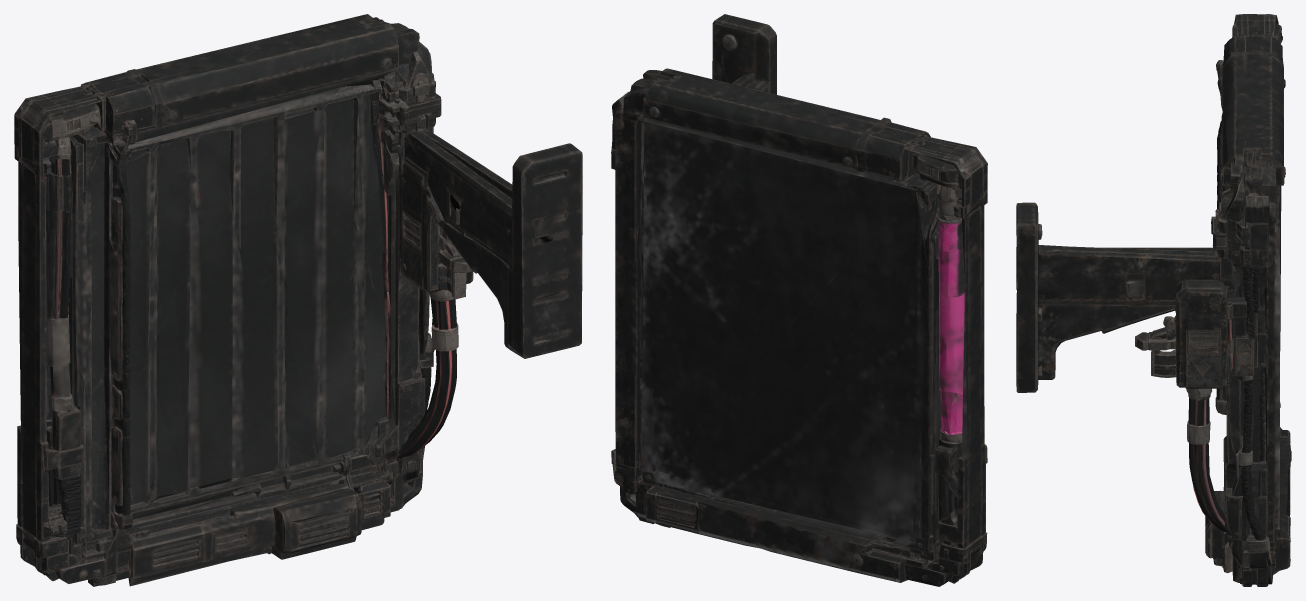
The model's file is neon_sign.glb.
The picture shows the model from 3 angles, left to right: view 1: azimuth 30°, elevation 25°; view 2: azimuth 150°, elevation 25°; view 3: azimuth 270°, elevation 25°; orthographic projection. The views are drawn at different scales.
Parts seen in each view (by area): view 1: output_unwrapped; view 2: output_unwrapped; view 3: output_unwrapped.
Boxes of the visible parts, left/top/right/bottom form: output_unwrapped: left=14, top=14, right=582, bottom=586; output_unwrapped: left=611, top=14, right=987, bottom=586; output_unwrapped: left=1016, top=14, right=1291, bottom=586.
Bounding box in the file's own units: 1.68 × 1.89 × 1.1.
Materials: 1 (1 with a texture image).
